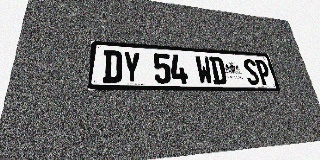4: (170, 54, 188, 84)
5: (153, 53, 172, 84)
D: (102, 50, 122, 83), (209, 56, 228, 84)
P: (254, 59, 273, 85)
S: (242, 59, 261, 85)
W: (195, 56, 213, 84)
Y: (123, 51, 141, 83)
